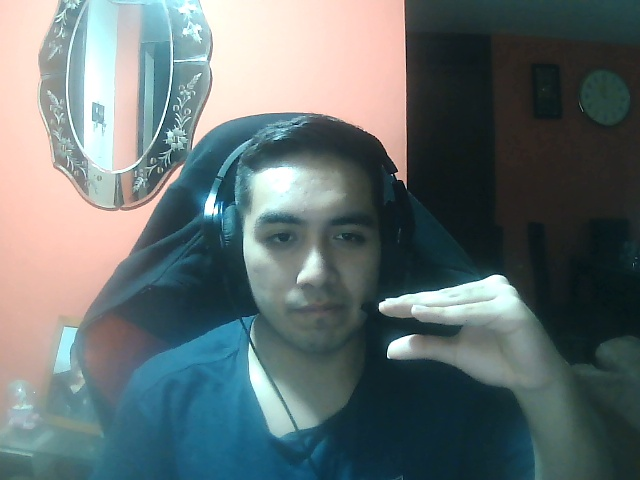no: (375, 267, 563, 398)
